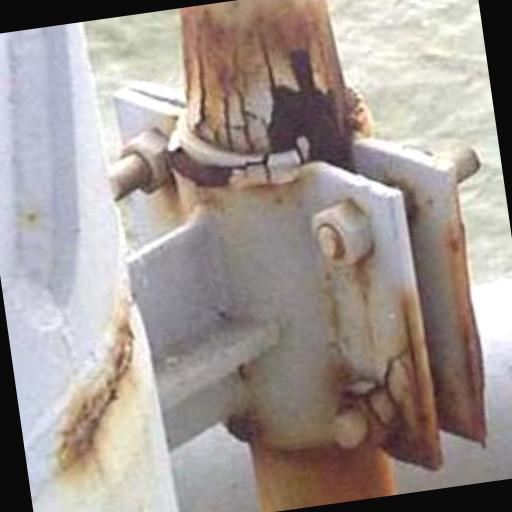segmentation: (182, 0, 360, 168), (269, 50, 354, 170)
